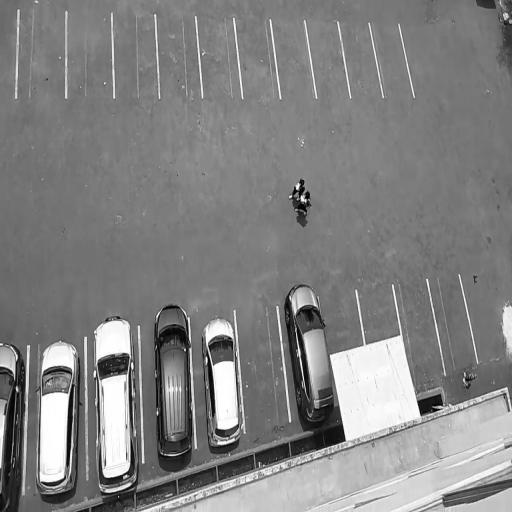Car: (92, 307, 142, 499), (282, 276, 342, 435), (34, 336, 80, 501), (152, 298, 195, 472), (200, 312, 244, 455), (0, 333, 24, 511)
Space Available: (236, 309, 290, 432), (392, 281, 445, 381), (428, 277, 479, 375), (17, 9, 66, 97), (67, 13, 113, 98), (113, 13, 159, 98), (156, 14, 202, 97), (234, 17, 281, 98), (197, 17, 242, 97), (305, 19, 350, 97), (271, 20, 316, 97), (370, 21, 414, 95), (339, 22, 383, 95), (319, 291, 365, 354), (356, 283, 401, 344), (0, 8, 18, 101)
